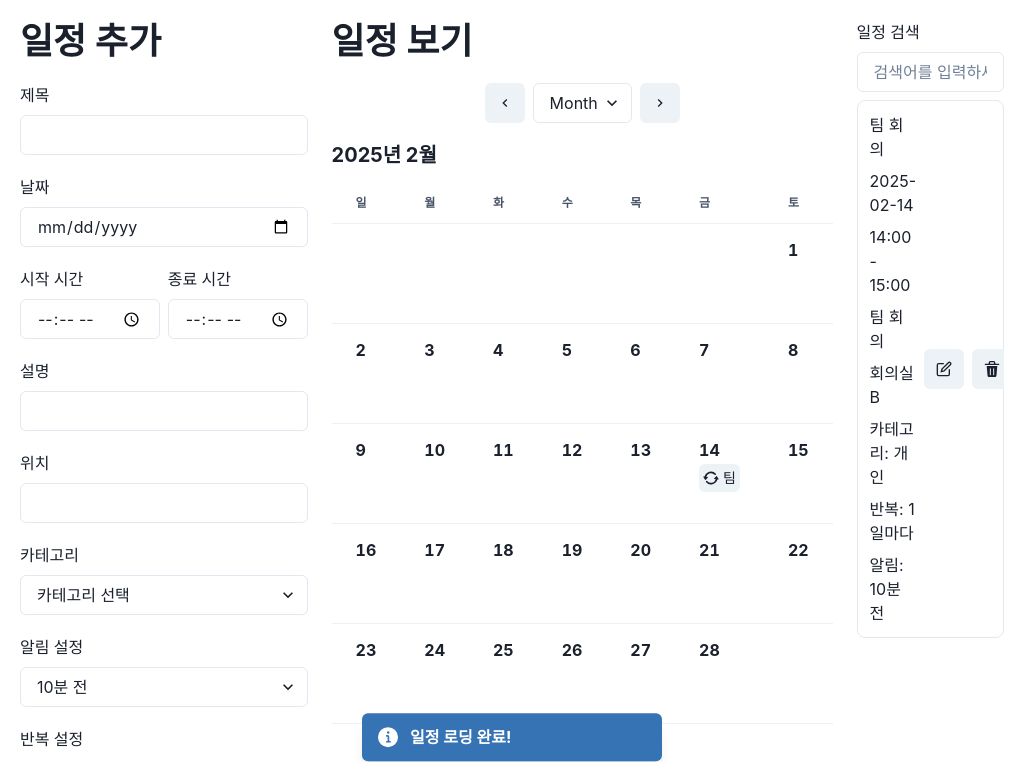
검색 기능 › 검색어를 지우면 모든 일정이 다시 표시되어야 한다
The width and height of the screenshot is (1024, 762).
Expected: the heading "2025년 2월" is shown, [332,143,437,167]
Type "존재하지 않는 이벤트" into the field labelled "일정 검색" at (930, 72), box [857,52,1004,92]
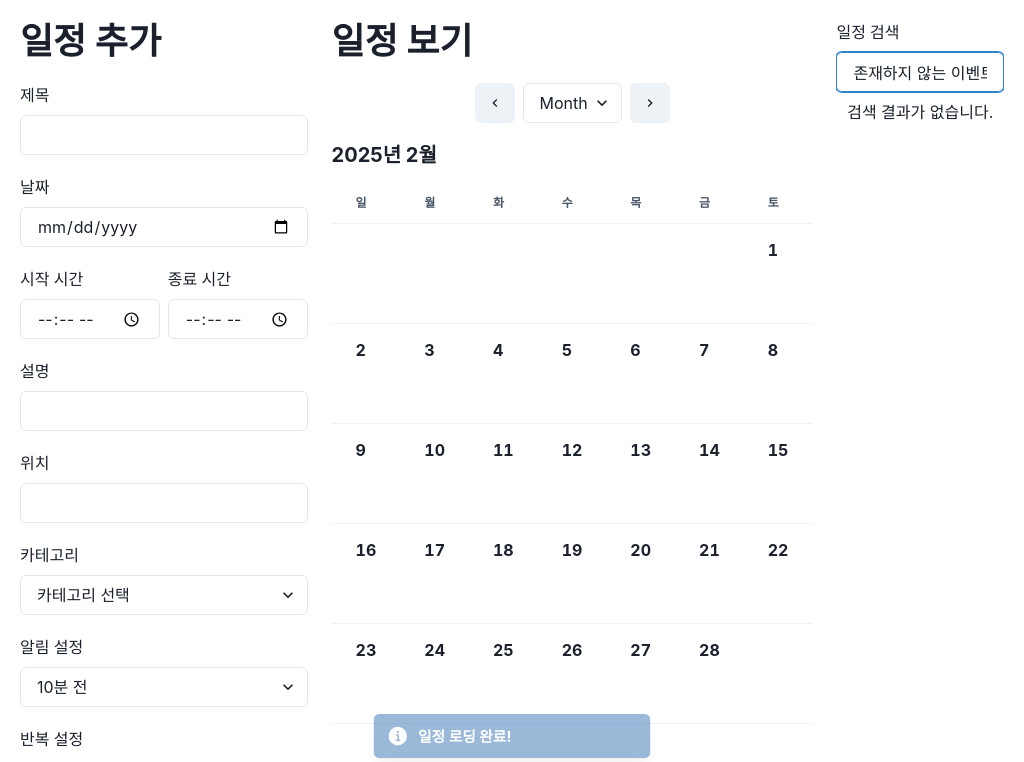
Now the text "검색 결과가 없습니다." is shown, box [847,100,993,124]
Clear the field labelled "일정 검색" at (920, 72), box [836,52,1004,92]
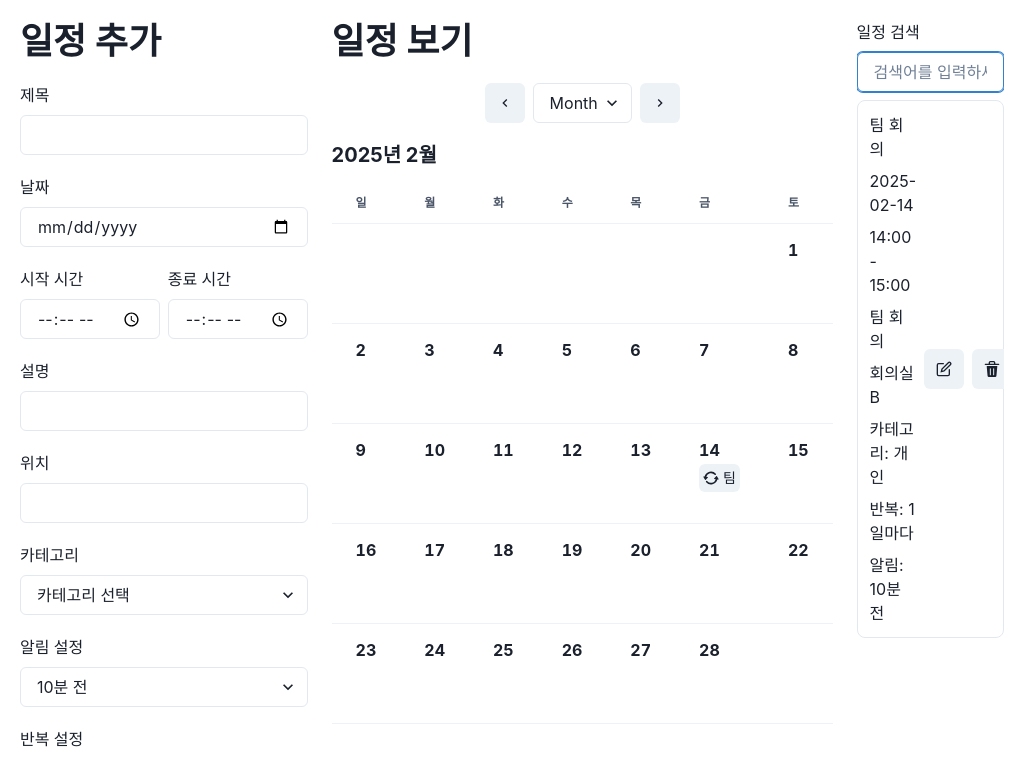
Now the element with test id "event-item-1" is shown, box [857,100,1004,638]
